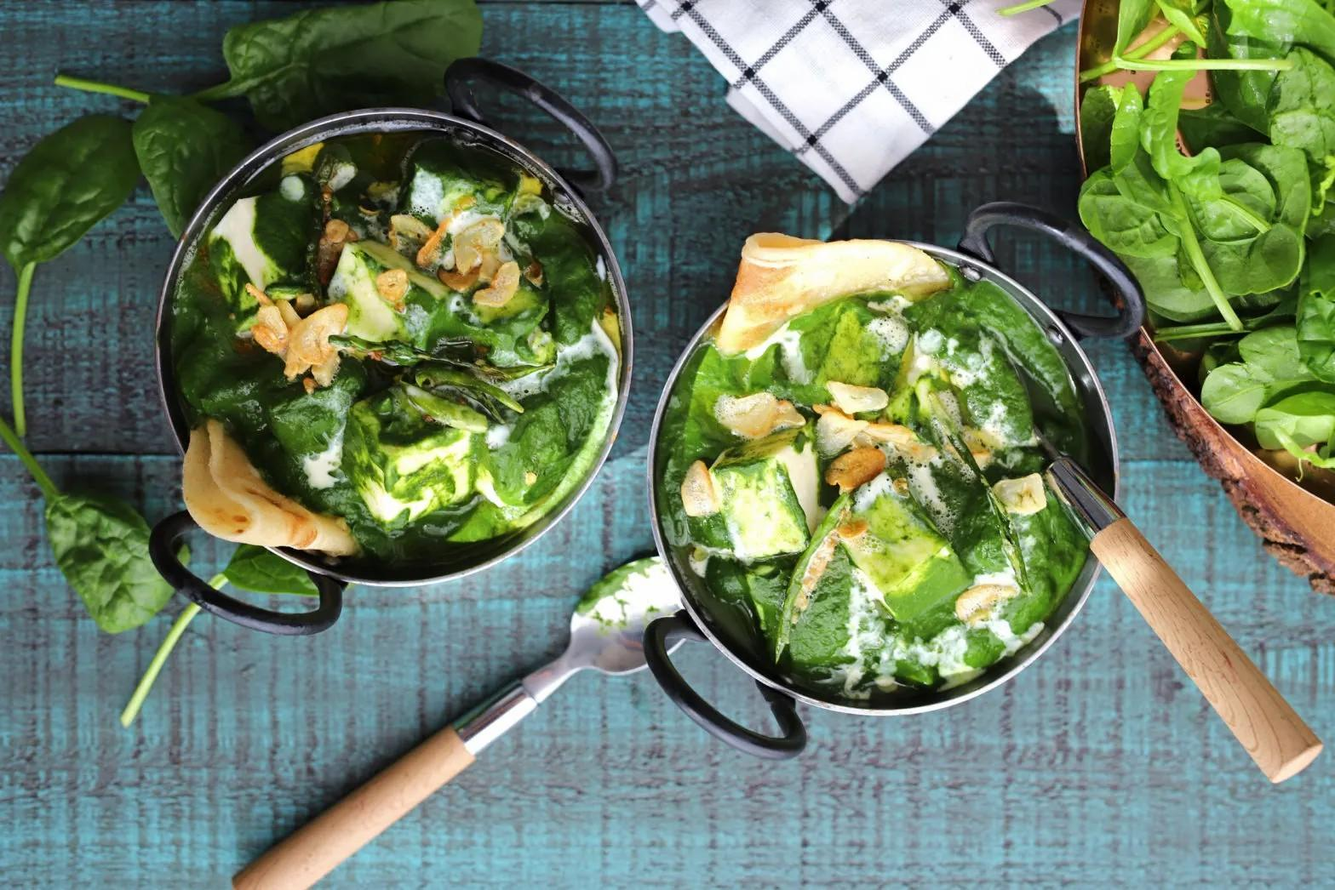PalakPaneer: (173, 157, 618, 572), (669, 279, 1094, 693)
